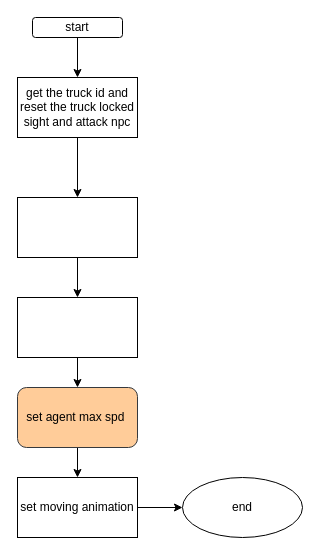
Image size: 320x555. Some labels were removed from this diagram. The centre of each missing label's shape, as x and y in pixels:
reset the npc locked sight and attack clear interval: the point at 77,227
set the target of npc as truck point: the point at 77,327
